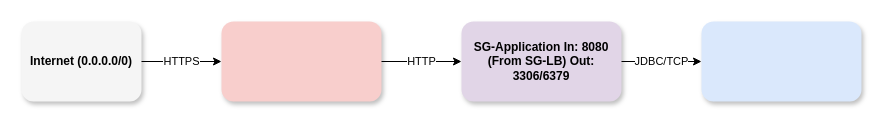
The diagram is 884 pixels wide and 125 high, and some of its shapes have lost their labels. Each missing label, with the centre of its shape:
"SG-Data In: 3306/6379 (From SG-App)" belongs at pixel 782 62.
"SG-LoadBalancer In: 443 (Any) Out: 8080 (App)" belongs at pixel 302 62.
